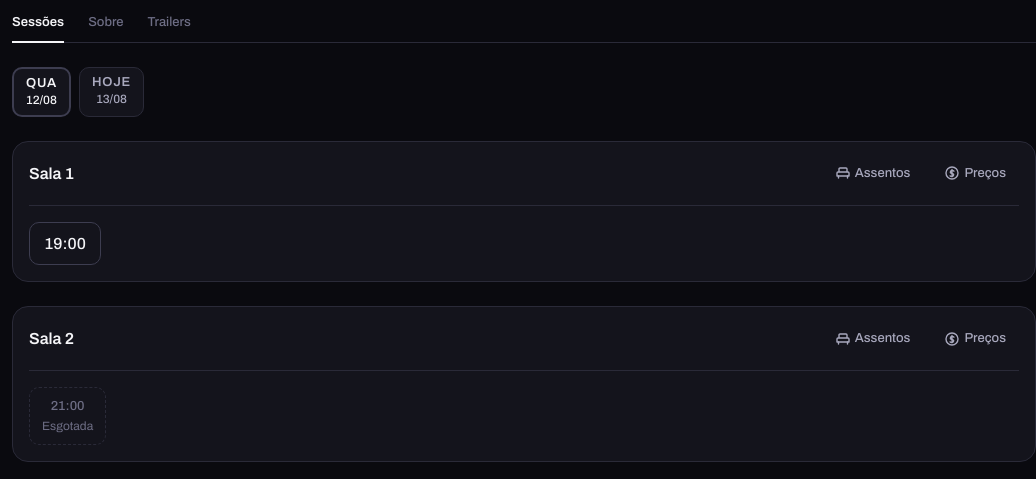
Test case: grade de sessões › trocar o dia mostra só os horários daquele dia
What coordinates should you click on to do the following:
click the tab "hoje 13/08"
I would click on:
 (112, 92)
Its box is [79,67,144,117].
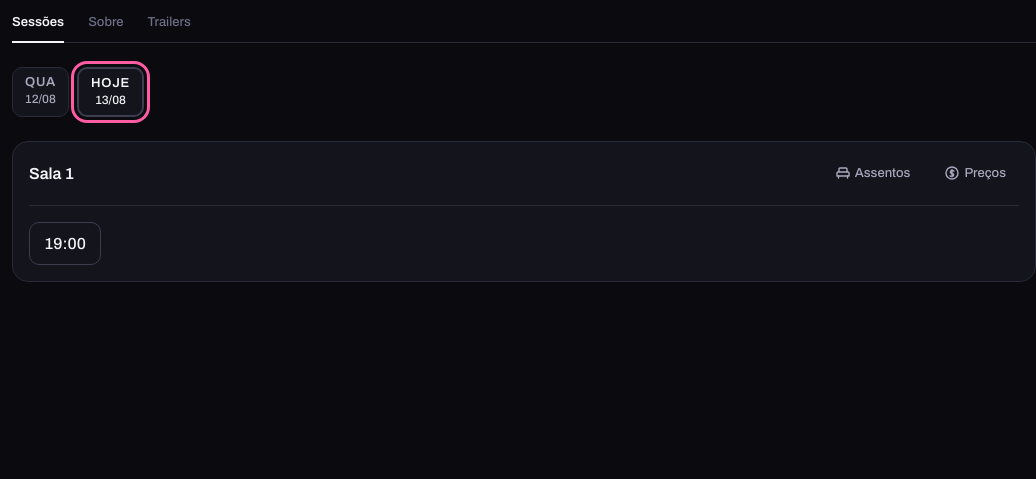
Now the heading "Sala 2" is gone
